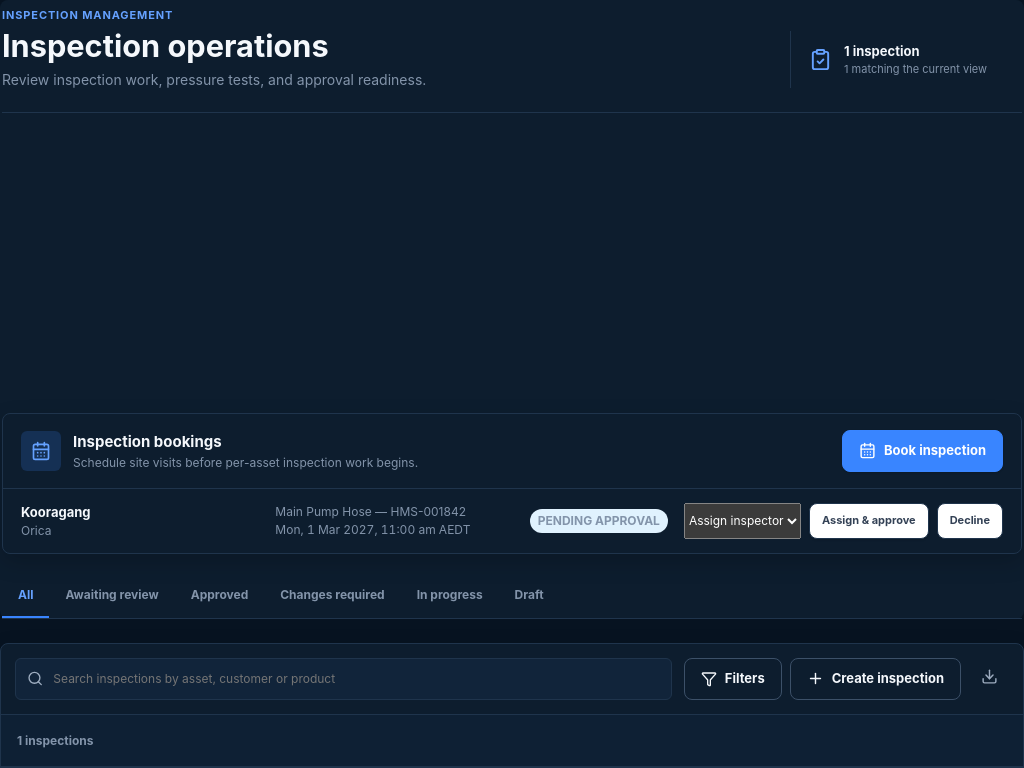
Test: Inspection bookings › declines only after confirmation and keeps the booking if declining fails
Expected: the text "Kooragang" is shown, [21, 504, 90, 520]
Click the button "Decline" at (970, 520), box [937, 502, 1003, 538]
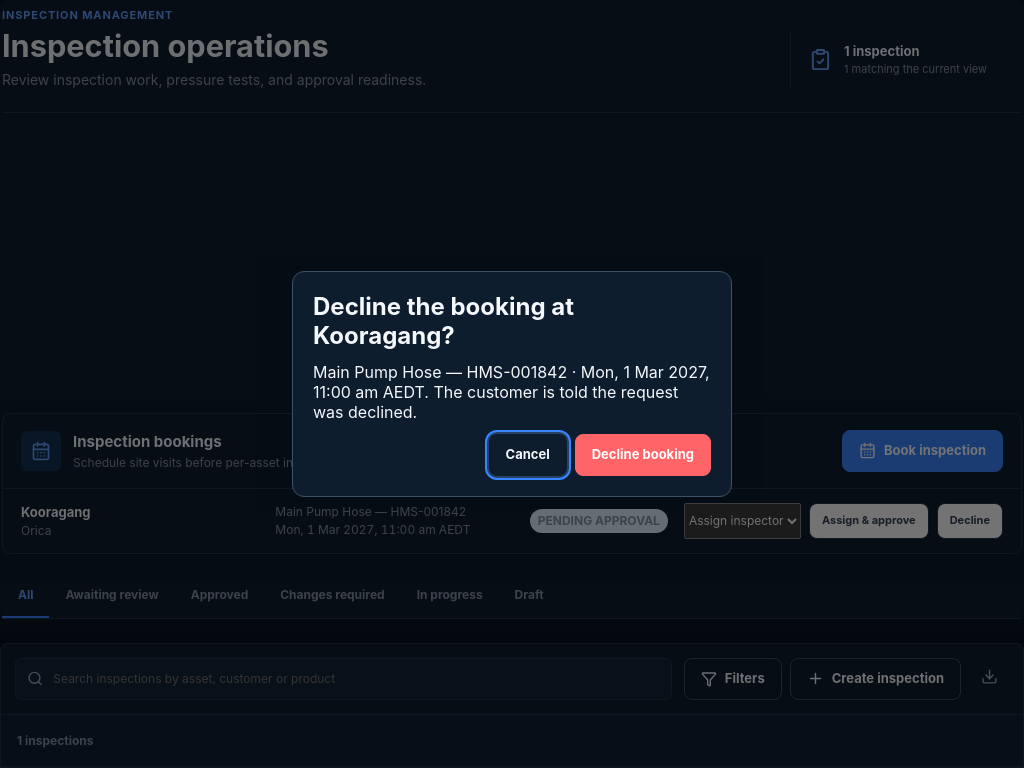
Click the button "Decline booking" at (643, 455), box [575, 434, 711, 476]
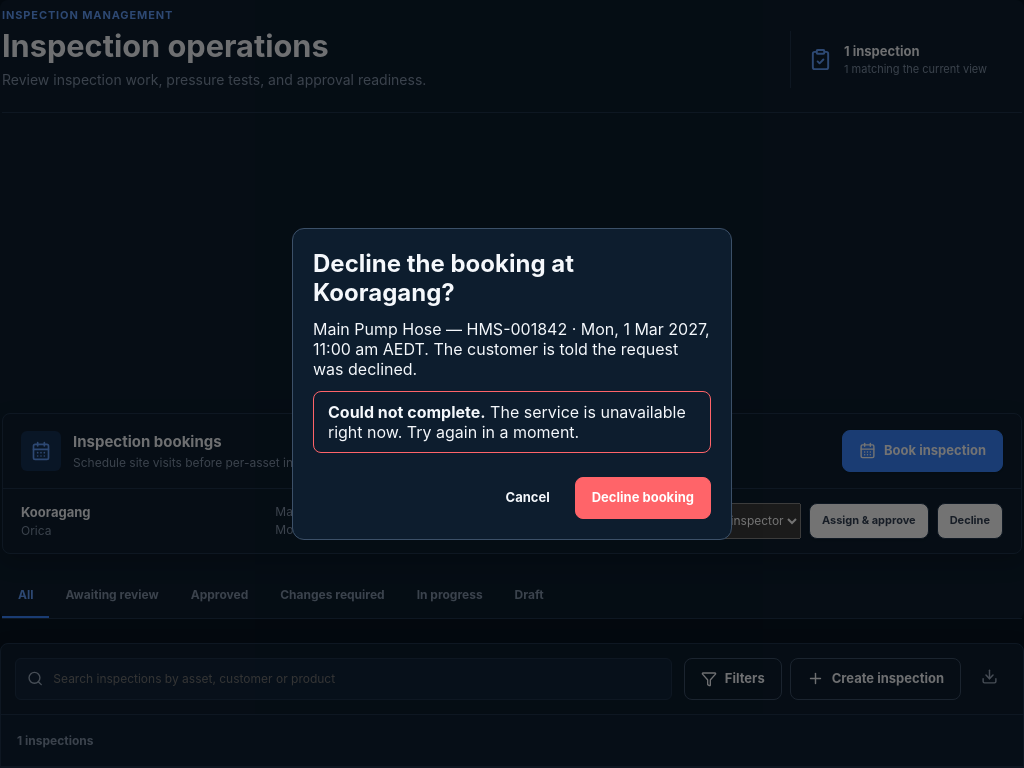
Expected: the text "Kooragang" is shown, [21, 504, 90, 520]
Now the message shows "service is unavailable", box [328, 402, 686, 442]
